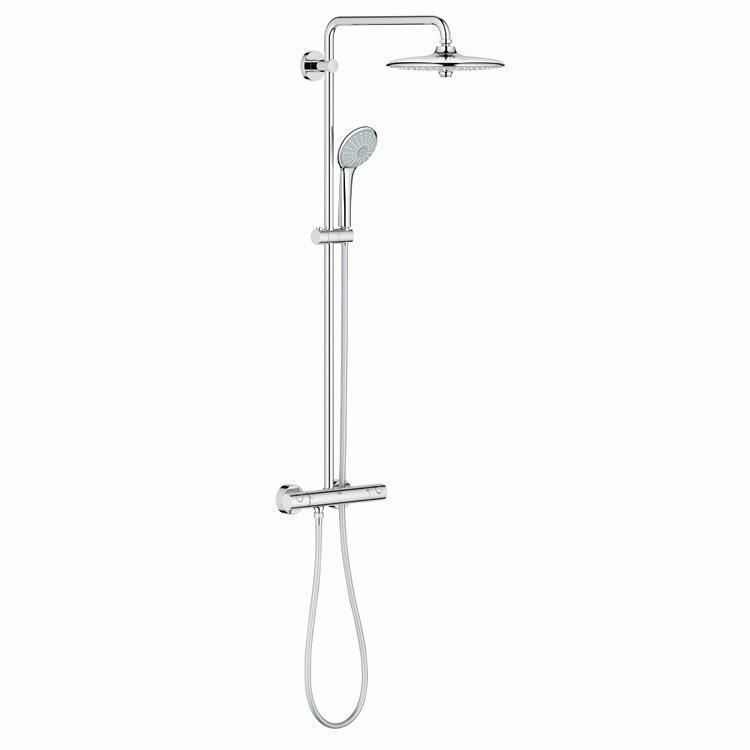Ducha: (274, 0, 504, 734)
